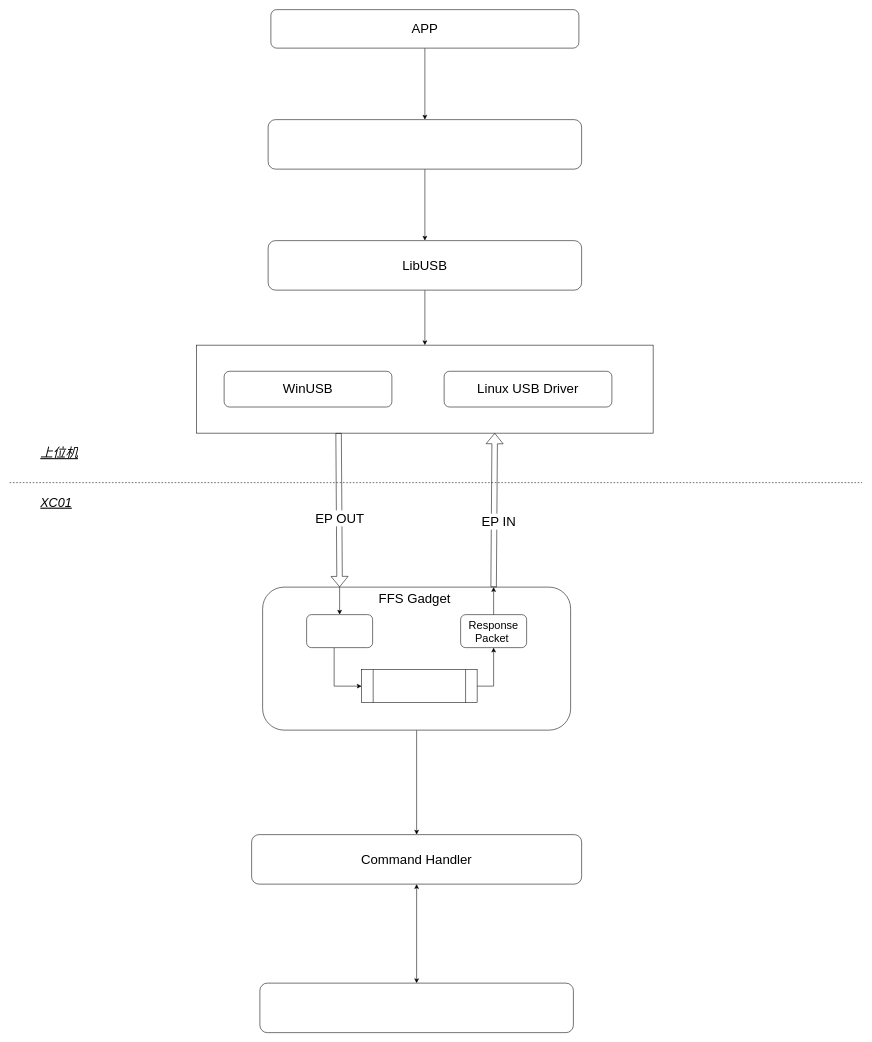
This 872x1042 diagram has some shape labels left out. Each missing label, with the centre of its shape:
Command: point 419,686
Command Protocol: point 425,144
incoming Packet: point 339,631
XC01 MPP: point 416,1008
